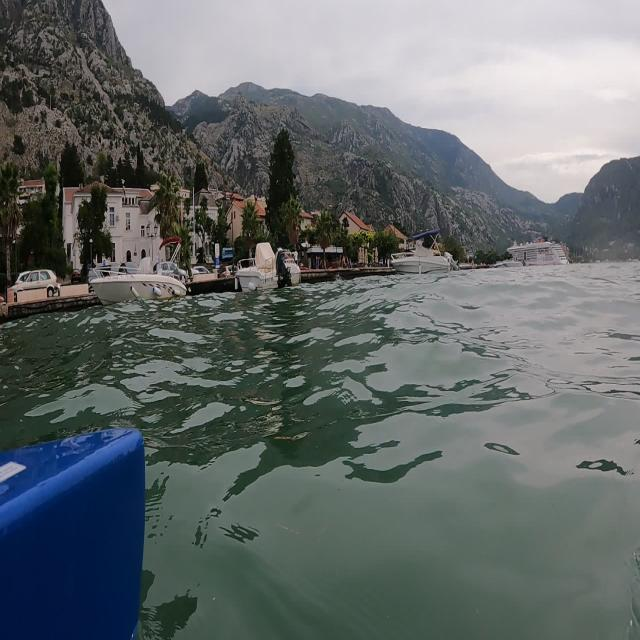boat: (85, 235, 199, 309), (499, 226, 586, 286), (384, 220, 463, 286)
buoy: (230, 239, 302, 299)
